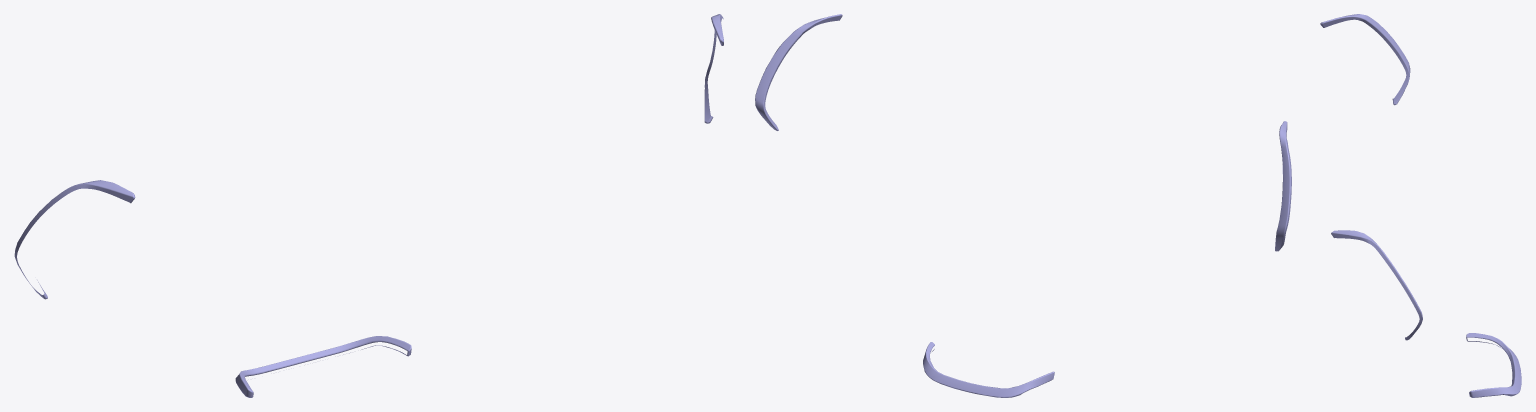
The model's file is TOYOTA_URBAN_CRUISER_PRE_HIG_IN_STEERING_ACCENTS_MESH.glb.
3 views of the same model, side by side, from view 1: azimuth 30°, elevation 25°; view 2: azimuth 150°, elevation 25°; view 3: azimuth 270°, elevation 25° (orthographic). The views are drawn at different scales.
Parts seen in each view (by area): view 1: TOYOTA_URBAN_CRUISER_PRE_HIG_IN_STEERING_ACCENTS_MESH; view 2: TOYOTA_URBAN_CRUISER_PRE_HIG_IN_STEERING_ACCENTS_MESH; view 3: TOYOTA_URBAN_CRUISER_PRE_HIG_IN_STEERING_ACCENTS_MESH.
Boxes of the visible parts, <box> form: TOYOTA_URBAN_CRUISER_PRE_HIG_IN_STEERING_ACCENTS_MESH: <box>14,14,723,397</box>; TOYOTA_URBAN_CRUISER_PRE_HIG_IN_STEERING_ACCENTS_MESH: <box>755,14,1291,397</box>; TOYOTA_URBAN_CRUISER_PRE_HIG_IN_STEERING_ACCENTS_MESH: <box>1320,14,1521,397</box>.
Bounding box in the file's own units: 0.3024 × 0.1426 × 0.1009.
